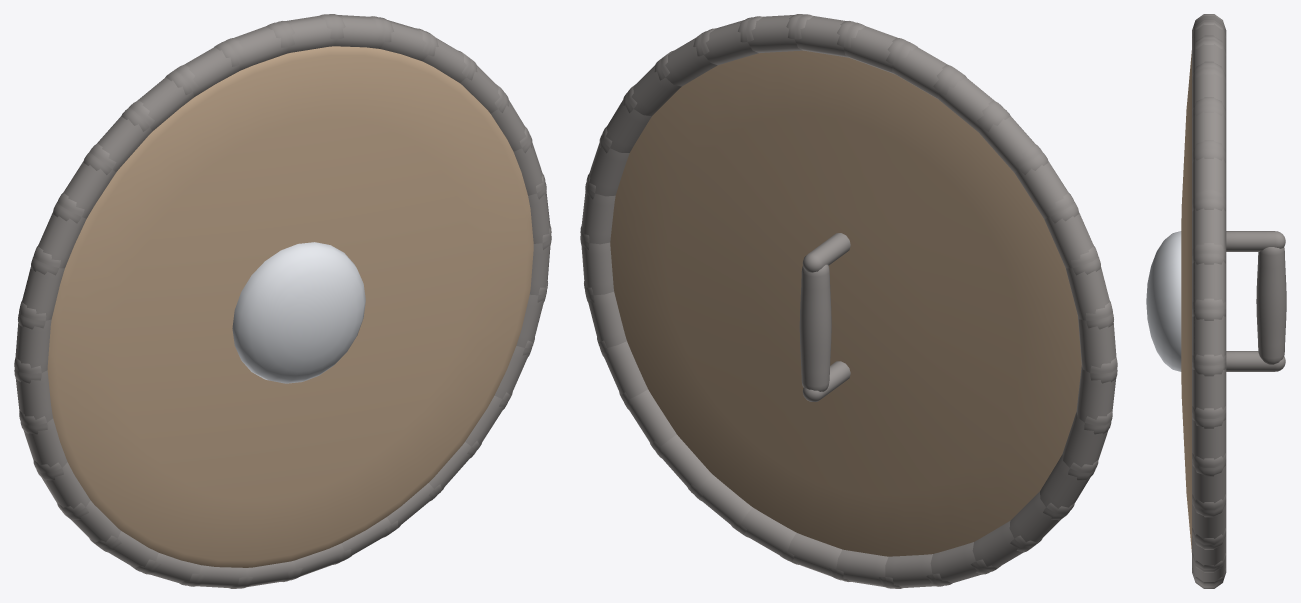
Rendered from SM_Shield.fbx.
3 views of the same model, side by side, from view 1: azimuth 30°, elevation 25°; view 2: azimuth 150°, elevation 25°; view 3: azimuth 270°, elevation 25° (orthographic). The views are drawn at different scales.
Parts seen in each view (by area): view 1: SM_Shield; view 2: SM_Shield; view 3: SM_Shield.
Boxes of the visible parts, box(x1,y1,x2,y2) form: SM_Shield: box(14, 14, 551, 588); SM_Shield: box(580, 14, 1117, 588); SM_Shield: box(1146, 14, 1286, 588).
Bounding box in the file's own units: 0.6082 × 0.6082 × 0.1485.
